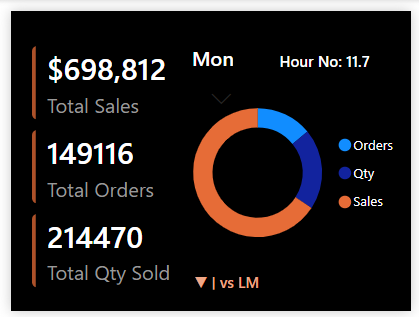

The dashboard page shown, as its layout file describes it:
{"tool":"powerbi","page":{"name":"Tool Tip for Day & Hour Chat","canvas":[320,240],"ordinal":2},"visuals":[{"type":"cardVisual","fields":{"Data":["Transactions.Total Sales","Transactions.Total Orders","Transactions.Total Qty Sold"]},"box":[0,11,160,229],"z":0},{"type":"donutChart","fields":{"Y":["Transactions.Total Orders","Transactions.Total Qty Sold","Transactions.Total Sales"]},"box":[128,41,192,177],"z":1000},{"type":"cardVisual","fields":{"Data":["Transactions.TT For Hours"]},"box":[185.7,11.4,134.3,54.3],"z":2000},{"type":"cardVisual","fields":{"Data":["Transactions.MoM Growth & diff sales"]},"box":[118,191,202,49],"z":3000},{"type":"cardVisual","fields":{"Rows":["Date Table.Day Name"]},"box":[127.6,0,81,85],"z":4000}]}

Visuals, with their boxes in screenshot pixels (x1, y1, x2, y2), scaled from the page's 320x240 canvas onto the 419x317 screenshot:
cardVisual - Transactions.Total Sales x Transactions.Total Orders: left=0, top=15, right=210, bottom=316
donutChart - Transactions.Total Orders x Transactions.Total Qty Sold: left=168, top=54, right=418, bottom=288
cardVisual - Transactions.TT For Hours: left=243, top=15, right=418, bottom=87
cardVisual - Transactions.MoM Growth & diff sales: left=155, top=252, right=418, bottom=316
cardVisual - Date Table.Day Name: left=167, top=0, right=273, bottom=112
